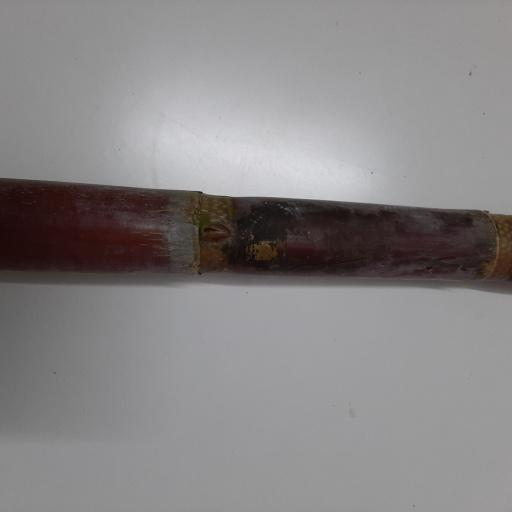Bud: (201, 221, 232, 243)
